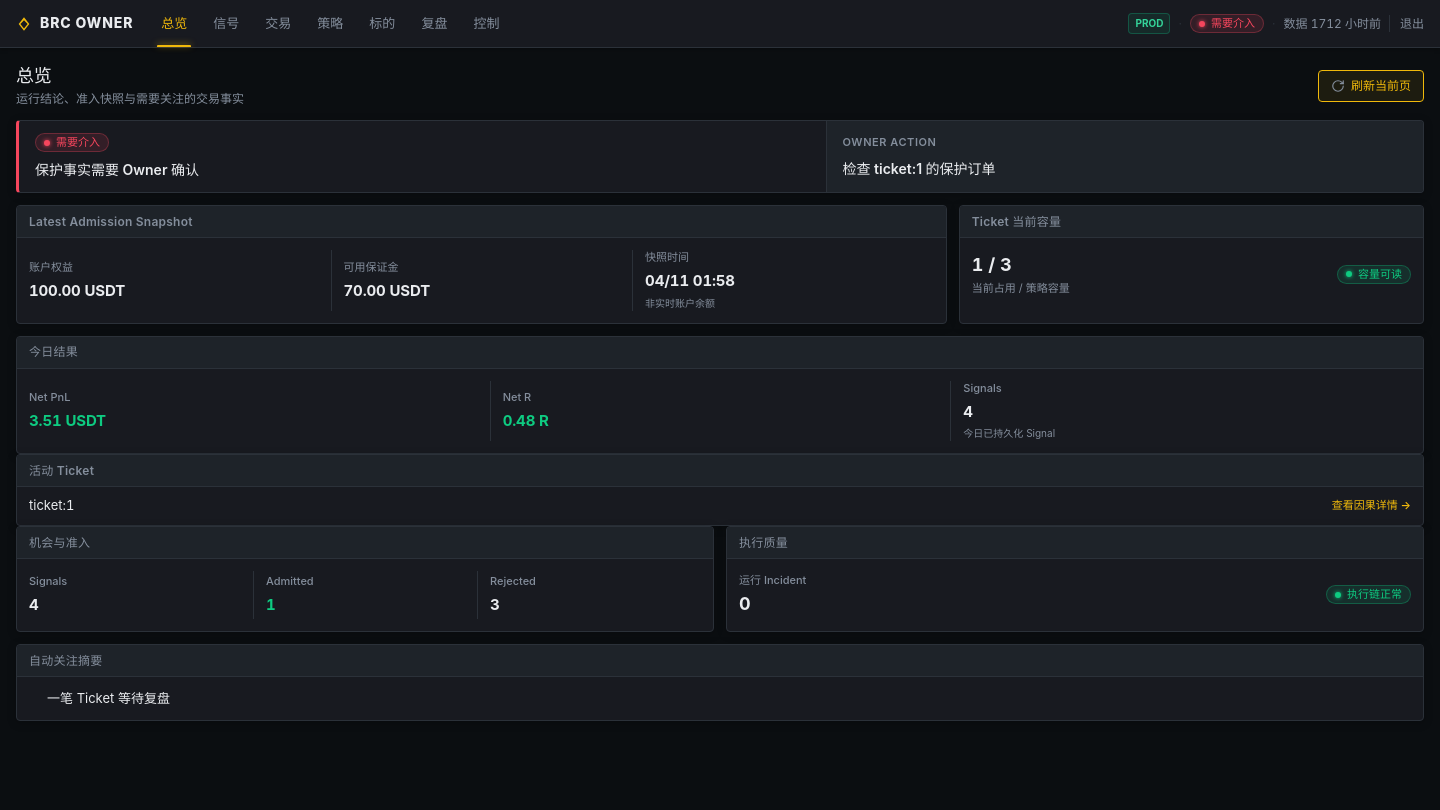
Test: keeps the last overview visible after a failed manual refresh
The image size is (1440, 810).
Check: the text "保护事实需要 Owner 确认" is shown, box [35,161,199,178]
Click the button "刷新当前页".
click(1371, 86)  # box [1318,70,1424,102]
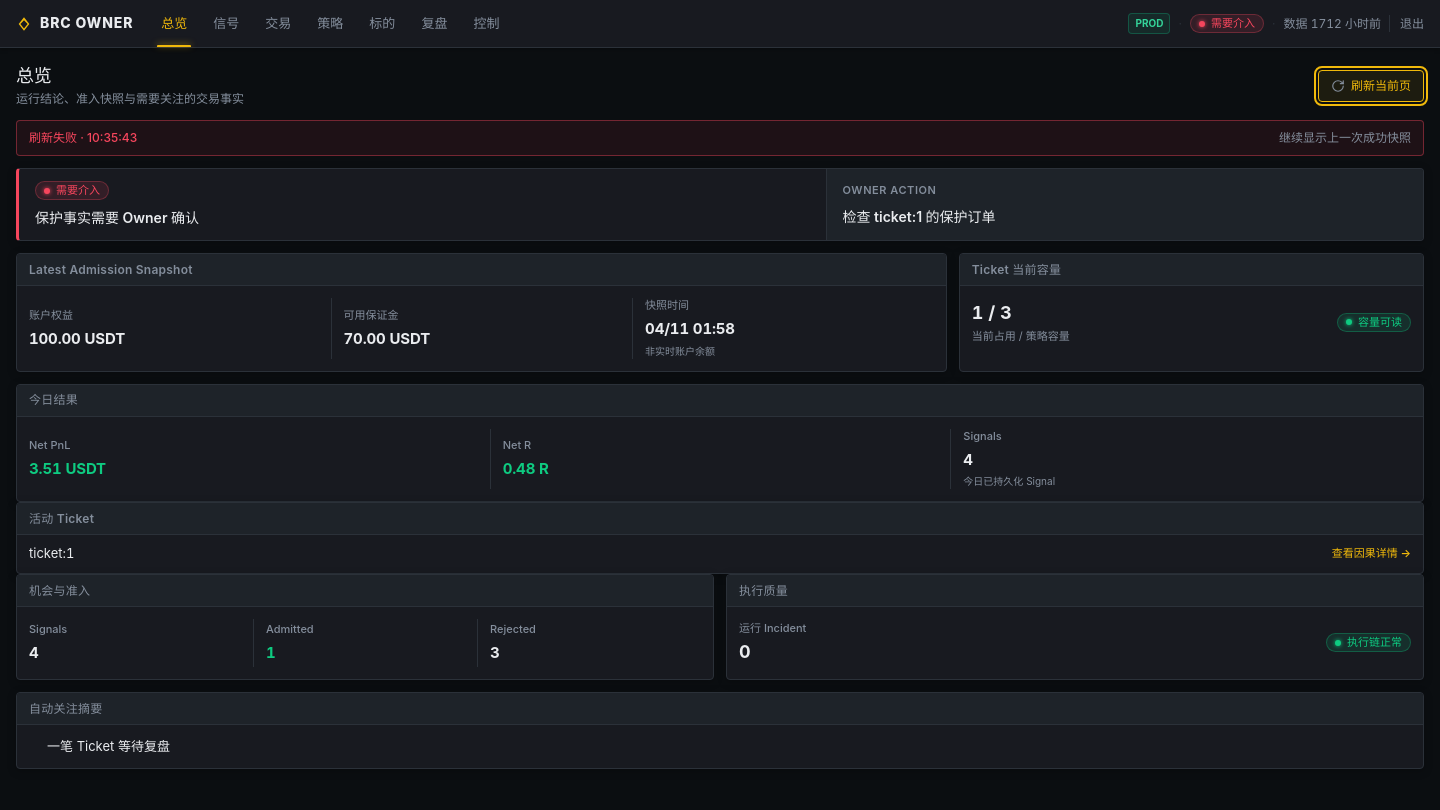
Check: the text "保护事实需要 Owner 确认" is shown, box [35,209,199,226]
Check: the text "刷新失败 · 10:35:43 继续显示上一次成功快照" is shown, box [16,120,1424,156]
